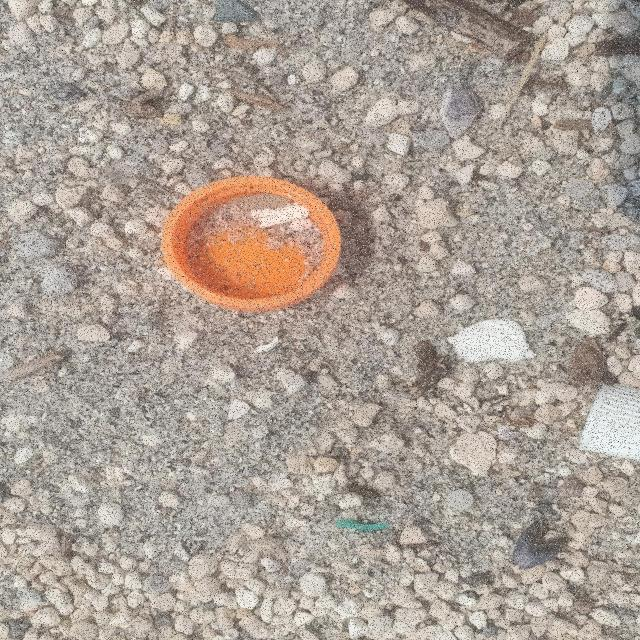plastic_waste: (159, 173, 345, 314)
